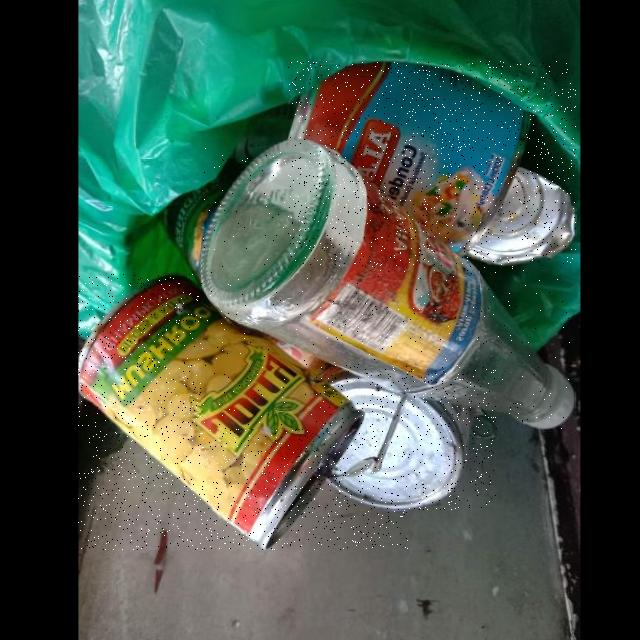glass: (201, 138, 575, 428)
metal: (78, 274, 408, 550), (288, 61, 576, 266), (321, 365, 496, 510)
